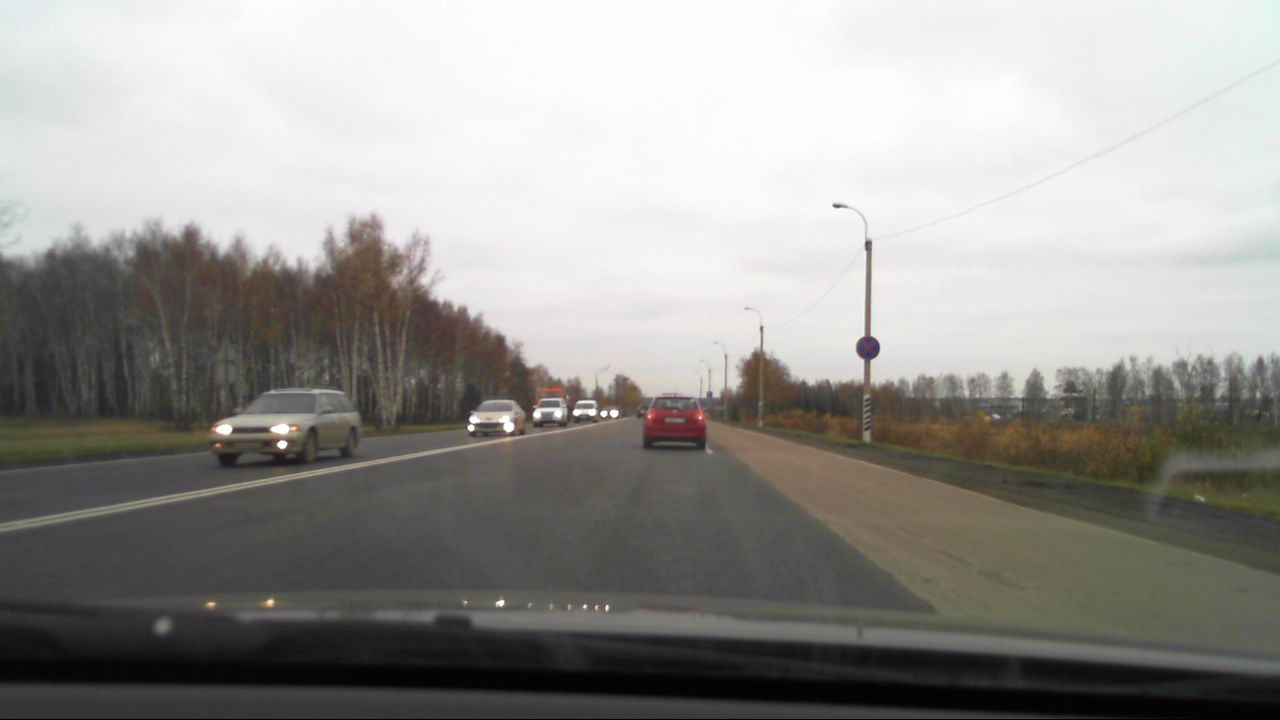No Parking: (854, 334, 882, 362)
